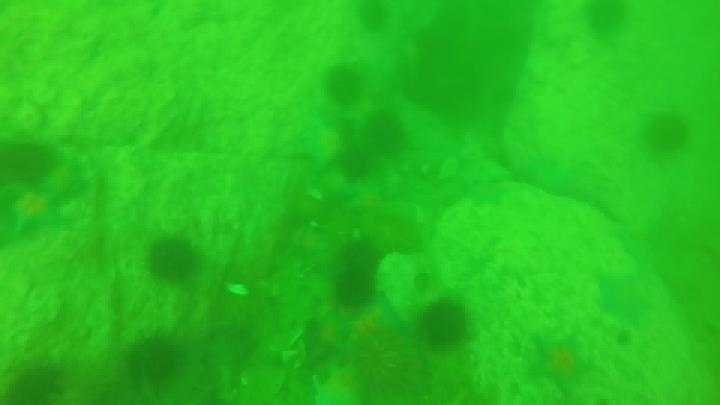echinus: (348, 324, 425, 401), (124, 333, 183, 388), (417, 298, 472, 349), (145, 236, 201, 286), (3, 360, 66, 404), (2, 138, 58, 186), (643, 111, 691, 156), (362, 111, 409, 156), (331, 266, 377, 311), (335, 236, 384, 277), (323, 64, 365, 108), (583, 1, 631, 39), (337, 144, 376, 182), (353, 1, 392, 33)
starfish: (526, 331, 596, 397), (594, 271, 655, 326), (5, 185, 69, 237), (286, 116, 346, 171), (304, 311, 356, 362), (306, 364, 365, 405), (464, 178, 509, 210)
